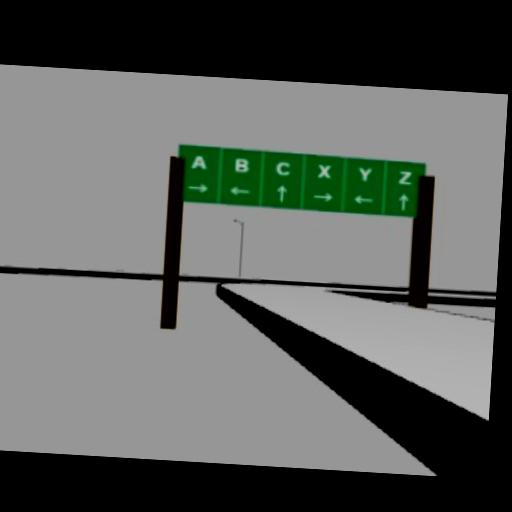A: (190, 153, 208, 168)
B: (233, 156, 249, 172)
C: (274, 158, 292, 174)
Left: (228, 183, 251, 194), (353, 193, 374, 204)
Right: (185, 181, 208, 192), (312, 190, 335, 201)
Straight: (397, 191, 408, 210), (276, 183, 287, 200)
X: (317, 162, 332, 177)
Y: (358, 165, 372, 181)
Z: (397, 169, 413, 184)
